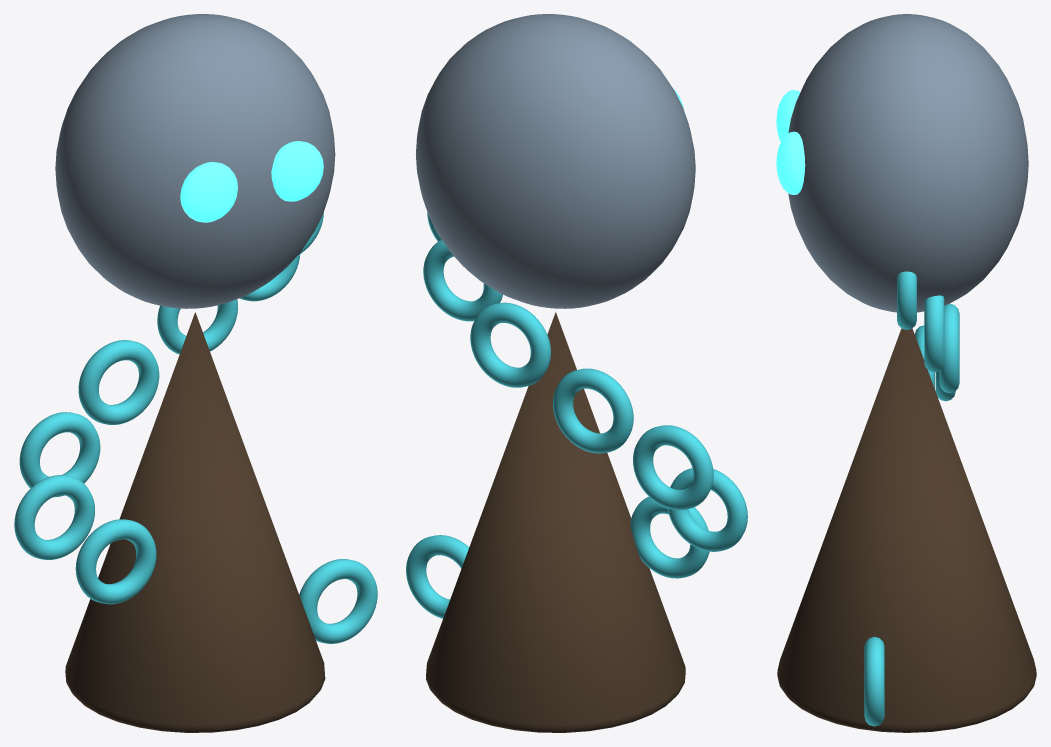
Rendered from wisp_v3.glb.
The picture shows the model from 3 angles, left to right: view 1: azimuth 30°, elevation 25°; view 2: azimuth 150°, elevation 25°; view 3: azimuth 270°, elevation 25°; orthographic projection.
Visible parts, largest first — view 1: FLOATING_SKULL_PRIMARY, ECTOPLASM_TAIL_SECONDARY, SPECTRAL_CHAIN_ACCENT.006, SPECTRAL_CHAIN_ACCENT.003, SPECTRAL_CHAIN_ACCENT.005, SPECTRAL_CHAIN_ACCENT.008, SPECTRAL_CHAIN_ACCENT.004, EYE_EMISSIVE, EYE_EMISSIVE.001, SPECTRAL_CHAIN_ACCENT.002, SPECTRAL_CHAIN_ACCENT.001; view 2: FLOATING_SKULL_PRIMARY, ECTOPLASM_TAIL_SECONDARY, SPECTRAL_CHAIN_ACCENT.002, SPECTRAL_CHAIN_ACCENT.003, SPECTRAL_CHAIN_ACCENT.004, SPECTRAL_CHAIN_ACCENT.005, SPECTRAL_CHAIN_ACCENT.006, SPECTRAL_CHAIN_ACCENT.008, SPECTRAL_CHAIN_ACCENT.001; view 3: ECTOPLASM_TAIL_SECONDARY, FLOATING_SKULL_PRIMARY, SPECTRAL_CHAIN_ACCENT.008, SPECTRAL_CHAIN_ACCENT.001, EYE_EMISSIVE.001, SPECTRAL_CHAIN_ACCENT.002, SPECTRAL_CHAIN_ACCENT, EYE_EMISSIVE.
Part boxes in pixels (box(x1,y1,x2,y2)): FLOATING_SKULL_PRIMARY: box(55, 14, 335, 308); ECTOPLASM_TAIL_SECONDARY: box(65, 312, 325, 732); SPECTRAL_CHAIN_ACCENT.006: box(75, 519, 156, 604); SPECTRAL_CHAIN_ACCENT.003: box(78, 340, 159, 424); SPECTRAL_CHAIN_ACCENT.005: box(14, 475, 94, 559); SPECTRAL_CHAIN_ACCENT.008: box(299, 559, 377, 643); SPECTRAL_CHAIN_ACCENT.004: box(19, 412, 100, 497); EYE_EMISSIVE: box(180, 162, 237, 222); EYE_EMISSIVE.001: box(271, 141, 323, 201); SPECTRAL_CHAIN_ACCENT.002: box(157, 299, 237, 354); SPECTRAL_CHAIN_ACCENT.001: box(239, 254, 300, 301); FLOATING_SKULL_PRIMARY: box(415, 14, 695, 308); ECTOPLASM_TAIL_SECONDARY: box(426, 312, 685, 732); SPECTRAL_CHAIN_ACCENT.002: box(470, 302, 550, 387); SPECTRAL_CHAIN_ACCENT.003: box(553, 368, 633, 453); SPECTRAL_CHAIN_ACCENT.004: box(633, 425, 713, 510); SPECTRAL_CHAIN_ACCENT.005: box(667, 468, 747, 551); SPECTRAL_CHAIN_ACCENT.006: box(630, 497, 709, 578); SPECTRAL_CHAIN_ACCENT.008: box(406, 535, 469, 618); SPECTRAL_CHAIN_ACCENT.001: box(423, 240, 502, 321); ECTOPLASM_TAIL_SECONDARY: box(777, 328, 1036, 732); FLOATING_SKULL_PRIMARY: box(788, 14, 1028, 312); SPECTRAL_CHAIN_ACCENT.008: box(864, 636, 884, 726); SPECTRAL_CHAIN_ACCENT.001: box(924, 295, 944, 372); EYE_EMISSIVE.001: box(776, 131, 805, 194); SPECTRAL_CHAIN_ACCENT.002: box(939, 303, 959, 393); SPECTRAL_CHAIN_ACCENT: box(897, 271, 916, 329); EYE_EMISSIVE: box(776, 90, 800, 141).
Bounding box in the file's own units: 1.14 × 2.04 × 0.7368.
